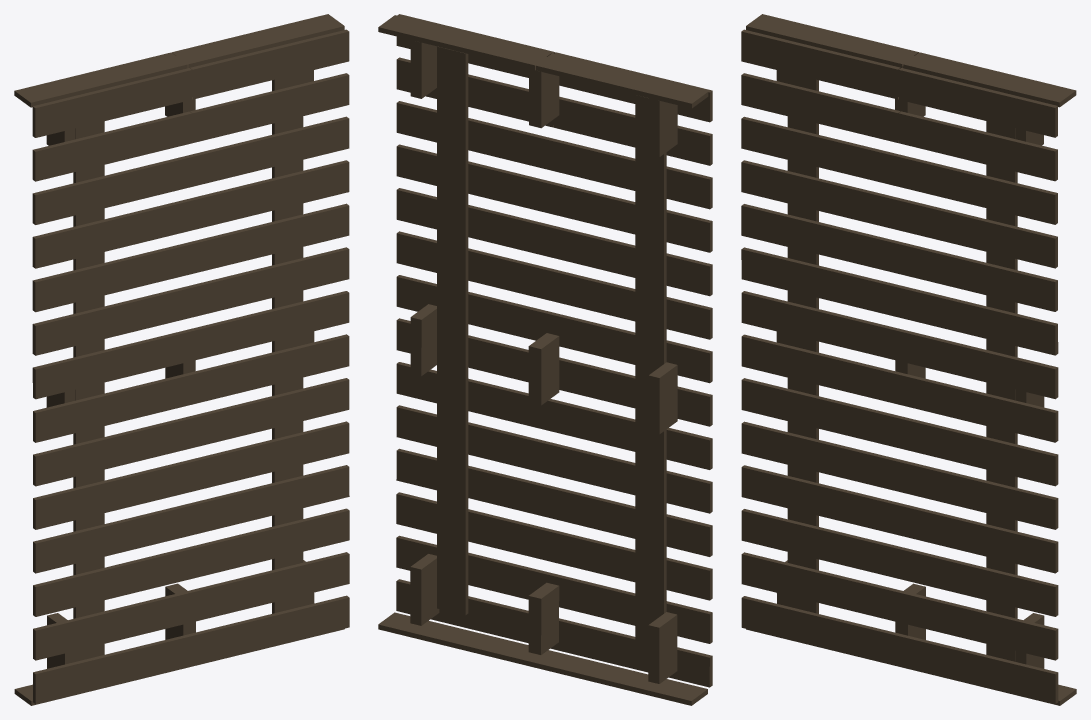
Rendered from MeshRobothorBedGrankulla_0.obj.
The picture shows the model from 3 angles, left to right: view 1: azimuth 30°, elevation 25°; view 2: azimuth 150°, elevation 25°; view 3: azimuth 330°, elevation 25°; orthographic projection.
Parts seen in each view (by area): view 1: RobothorBedGrankulla; view 2: RobothorBedGrankulla; view 3: RobothorBedGrankulla.
Boxes of the visible parts, bbox=[...] form: RobothorBedGrankulla: bbox=[14, 14, 349, 705]; RobothorBedGrankulla: bbox=[378, 14, 712, 705]; RobothorBedGrankulla: bbox=[741, 14, 1076, 705].
Bounding box in the file's own units: 1.21 × 2.22 × 0.1396.
